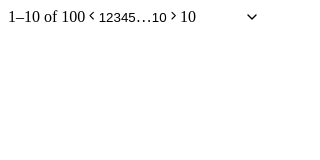
Scenario: PaginatorPageSize › changes the page size, the pages and the summary
Expected: the number of buttons "1" is 6, [99,9,106,26]; [106,9,114,26]; [114,9,121,26]; [121,9,128,26]; [128,9,136,26]; [152,9,167,26]
Click the dropdown named "Items per page" at (212, 17), box [180,8,244,26]
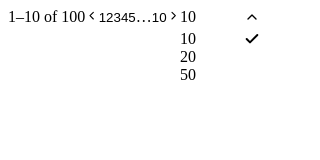
Click the option "50" at (188, 75), box [180,66,196,83]
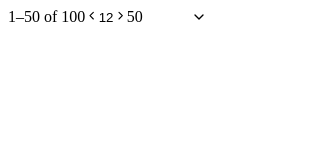
Expected: the number of buttons "1" is 2, [99,9,106,26]; [106,9,114,26]
Expected: the text "1–50 of 100" is shown, [8,8,85,26]
